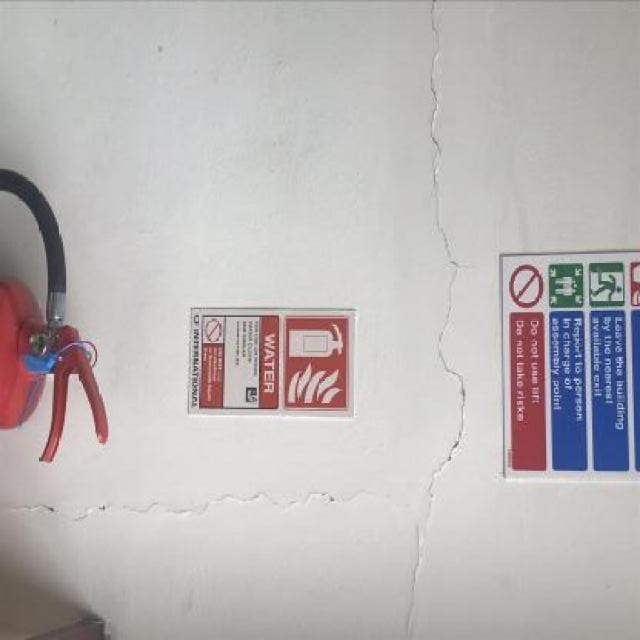fire extinguisher: (0, 166, 111, 462)
